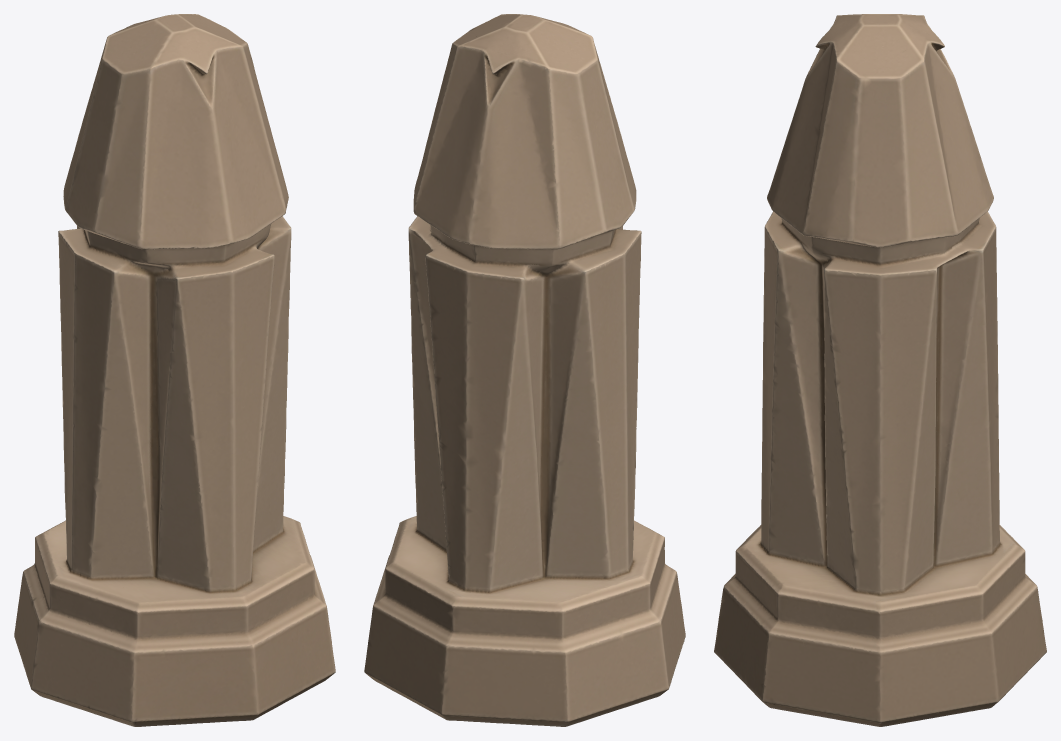
File: Meshy_AI_Sandstone_Obelisk_20261027_texture.fbx
The picture shows the model from 3 angles, left to right: view 1: azimuth 30°, elevation 25°; view 2: azimuth 150°, elevation 25°; view 3: azimuth 270°, elevation 25°; orthographic projection.
Visible parts, largest first — view 1: Mesh_0; view 2: Mesh_0; view 3: Mesh_0.
Part boxes in pixels (x1,y1,x2,y2): Mesh_0: (14, 14, 335, 726); Mesh_0: (364, 14, 685, 726); Mesh_0: (714, 14, 1046, 726).
Bounding box in the file's own units: 88.12 × 188 × 88.15.
Materials: 1 (1 with a texture image).
